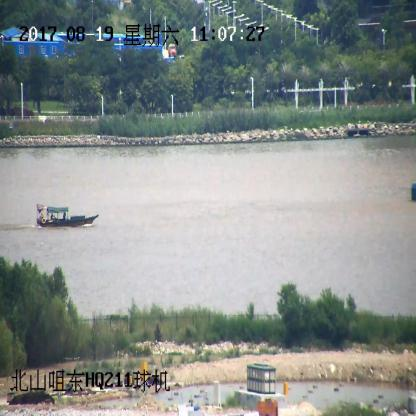Fishing Boat: (36, 204, 99, 229)
